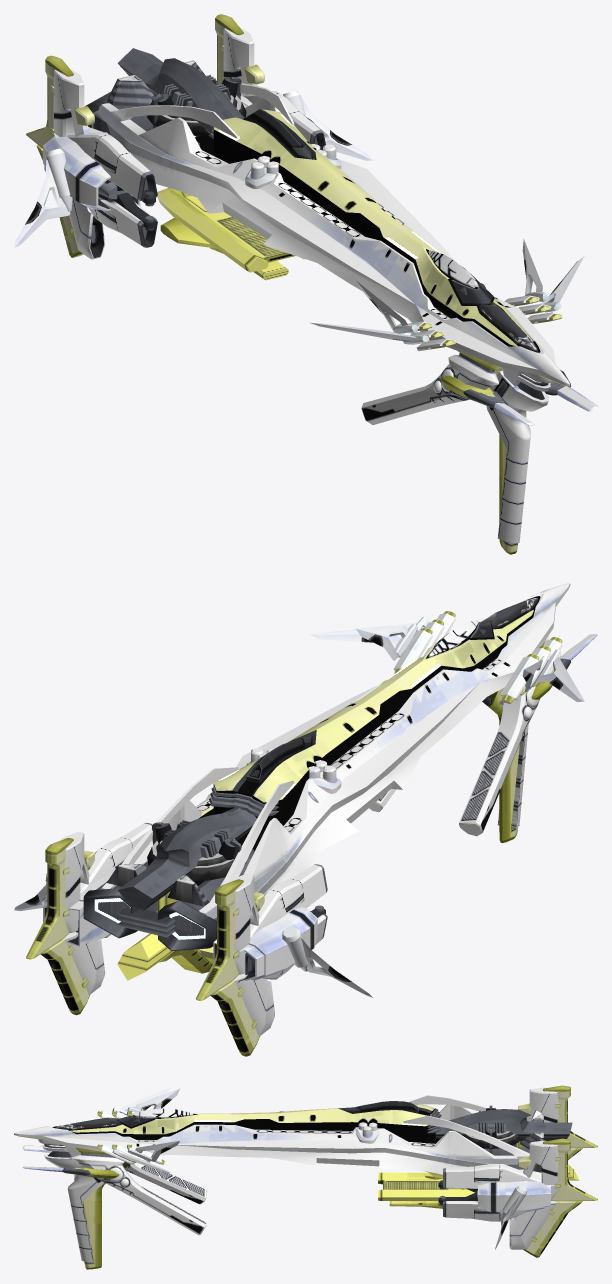
3 renders of one model, top to bottom at view 1: azimuth 30°, elevation 25°; view 2: azimuth 150°, elevation 25°; view 3: azimuth 270°, elevation 25°, orthographic. The views are drawn at different scales.
Visible parts, largest first — view 1: body; view 2: body; view 3: body.
Boxes of the visible parts, <box> form: body: <box>14,14,597,554</box>; body: <box>14,583,597,1056</box>; body: <box>14,1085,597,1269</box>.
Size of the model in its own units: 347 by 242 by 765.
Materials: 2 (2 with a texture image).
